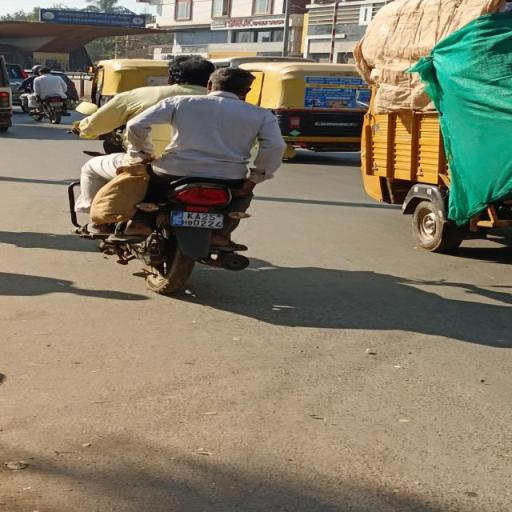bike: (66, 52, 292, 302)
numberplate: (171, 208, 233, 234)
withouthelmet: (209, 69, 253, 94), (168, 56, 210, 82)
